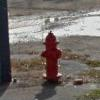Hydrant: (34, 22, 68, 91)
